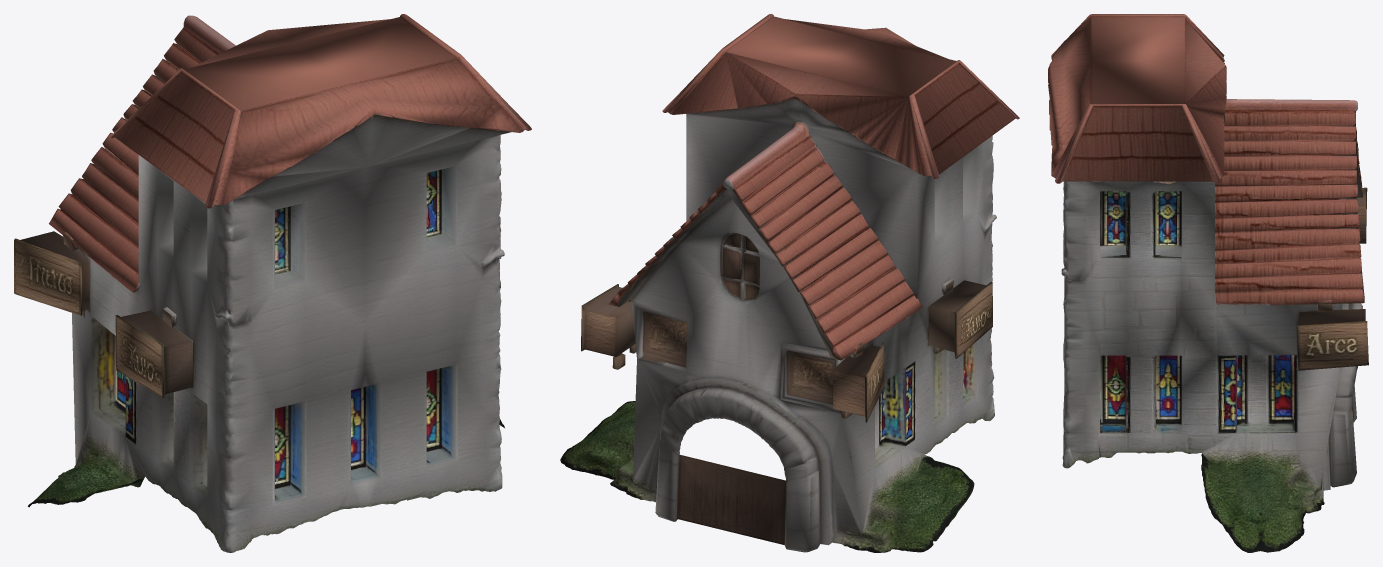
File: cave.glb
3 renders of one model, left to right at view 1: azimuth 30°, elevation 25°; view 2: azimuth 150°, elevation 25°; view 3: azimuth 270°, elevation 25°, orthographic. The views are drawn at different scales.
Parts seen in each view (by area): view 1: tripo_node_5e40d1fd-16a4-4e31-b26f-e01164ac0ca5; view 2: tripo_node_5e40d1fd-16a4-4e31-b26f-e01164ac0ca5; view 3: tripo_node_5e40d1fd-16a4-4e31-b26f-e01164ac0ca5.
Boxes of the visible parts, left/top/right/bottom form: tripo_node_5e40d1fd-16a4-4e31-b26f-e01164ac0ca5: left=14, top=14, right=531, bottom=552; tripo_node_5e40d1fd-16a4-4e31-b26f-e01164ac0ca5: left=560, top=14, right=1019, bottom=552; tripo_node_5e40d1fd-16a4-4e31-b26f-e01164ac0ca5: left=1048, top=14, right=1368, bottom=552.
Size of the model in its own units: 3.01 by 3 by 2.22.
1 material, 1 textured.
